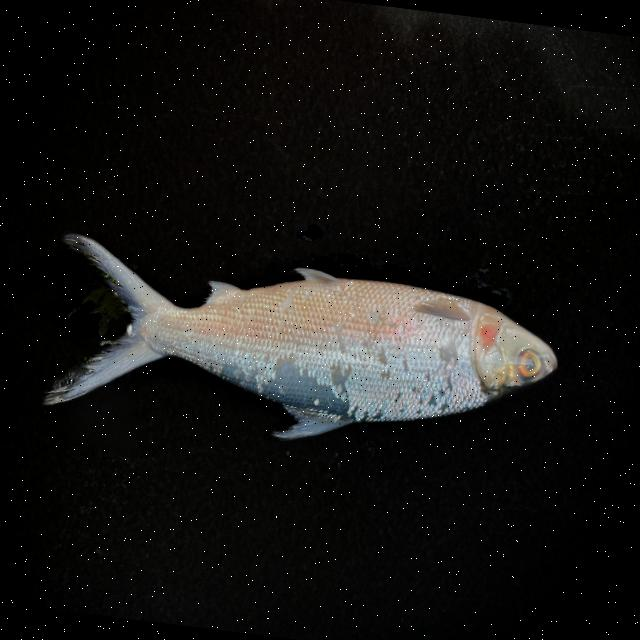720 g: (39, 230, 567, 472)
